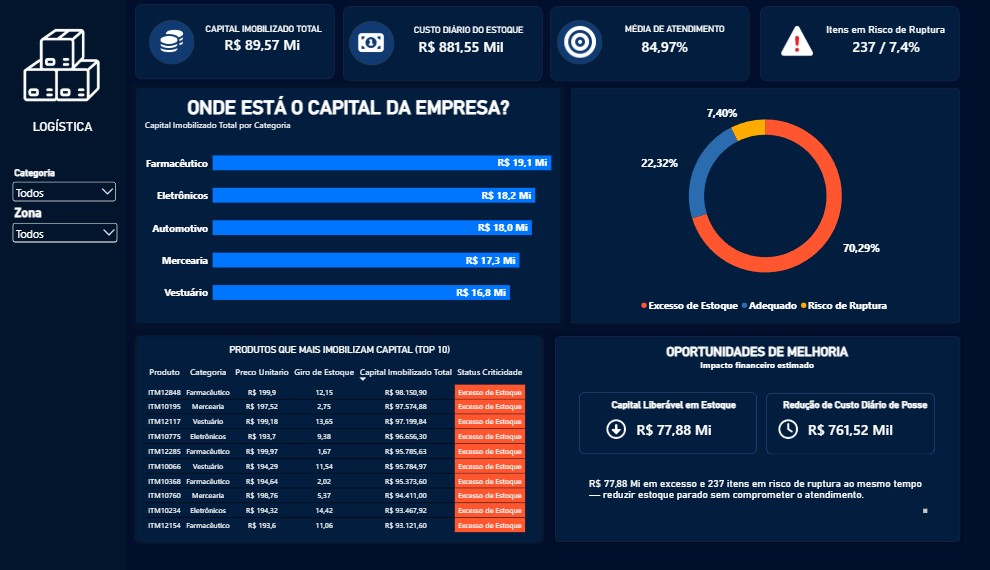

What the dashboard file says about the page in this screenshot:
{"tool":"powerbi","page":{"name":"Página 1","canvas":[1920,1080],"ordinal":0},"visuals":[{"type":"shape","box":[1056.5,40,86,84],"z":0,"group":"g1"},{"type":"shape","box":[1466.5,40,86,84],"z":0},{"type":"shape","box":[1440,12.5,377.5,142.5],"z":1000},{"type":"shape","box":[283.5,39.3,86,84],"z":1000,"group":"g3"},{"type":"shape","box":[662.5,42.5,86,84],"z":1000,"group":"g2"},{"type":"image","box":[1052.5,44,95.4,75.4],"z":1000,"group":"g1"},{"type":"image","box":[1462.5,44,95.4,75.4],"z":2000},{"type":"shape","box":[1042.5,12.5,377.5,142.5],"z":3000},{"type":"shape","box":[650,12.5,377.5,142.5],"z":4000},{"type":"shape","box":[1051,637.5,766.7,389.6],"z":5000},{"type":"shape","box":[257.5,10,377.5,142.5],"z":6000},{"type":"textbox","title":"CUSTO DIÁRIO DO ESTOQUE","box":[776,48.9,225.4,31.9],"z":7000},{"type":"image","box":[668.5,54.5,72.2,59.3],"z":7000,"group":"g2"},{"type":"image","box":[1142.3,790.4,49.4,45.9],"z":7500,"group":"g4"},{"type":"image","box":[1467.3,790.4,49.4,45.9],"z":7500,"group":"g5"},{"type":"textbox","title":"CAPITAL IMOBILIZADO TOTAL","box":[367.8,46.8,267.9,34],"z":8000},{"type":"image","box":[291.5,53.3,71.1,53.3],"z":8000,"group":"g3"},{"type":"cardVisual","title":"rrr","fields":{"Data":["medidas.Capital Imobilizado Total"]},"box":[410,58.3,178.3,51.7],"z":9000},{"type":"cardVisual","title":"rrr","fields":{"Data":["medidas.Custo Diario Estoque"]},"box":[776.7,65,197.5,50],"z":10000},{"type":"donutChart","fields":{"Category":["logistica.Status Criticidade"],"Y":["CountNonNull(logistica.item_id)"]},"box":[1082.5,167.5,735,445],"z":11000},{"type":"clusteredBarChart","title":"ONDE ESTÁ O CAPITAL DA EMPRESA?","fields":{"Category":["logistica.Categoria"],"Y":["medidas.Capital Imobilizado Total"]},"box":[260,167.5,802.5,445],"z":12000},{"type":"tableEx","title":"PRODUTOS QUE MAIS IMOBILIZAM CAPITAL (TOP 10)","fields":{"Values":["logistica.item_id","logistica.Categoria","logistica.Preco Unitario","Sum(logistica.Giro de Estoque)","medidas.Capital Imobilizado Total","logistica.Status Criticidade"]},"box":[260,637.5,767.5,390],"z":13000},{"type":"textbox","title":"OPORTUNIDADES DE MELHORIA","box":[1052.5,652.5,765,55],"z":14000},{"type":"cardVisual","title":"rrr","fields":{"Data":["medidas.Taxa Atendimento Media"]},"box":[1200,70,127.5,37.5],"z":15000},{"type":"textbox","title":"MÉDIA DE ATENDIMENTO ","box":[1160.8,46.8,233.9,23.4],"z":16000},{"type":"group","id":"g1","title":"Grupo 3","box":[1052.5,40,95,82.5],"z":17000},{"type":"group","id":"g2","title":"Grupo 2","box":[662.5,42.5,87.5,82.5],"z":18000},{"type":"group","id":"g3","title":"Grupo 1","box":[283.5,39.3,86,84],"z":19000},{"type":"shape","box":[0,0,240,1080],"z":20000},{"type":"image","box":[11.1,52.8,213.9,144.4],"z":21000},{"type":"textbox","title":" LOGÍSTICA","box":[51,227.5,138.2,31.9],"z":22000},{"type":"slicer","fields":{"Values":["logistica.Categoria"]},"box":[20,317.5,205,72.5],"z":23000},{"type":"slicer","fields":{"Values":["logistica.Zona"]},"box":[20,390,207.7,72.1],"z":24000},{"type":"shape","box":[1096.2,744.2,336.5,117.3],"z":25000},{"type":"cardVisual","title":"rrr","fields":{"Data":["medidas.Impacto Capital Excesso"]},"box":[1186.5,788.5,182.5,50],"z":26000},{"type":"textbox","title":"Capital Liberável em Estoque","box":[1157.1,757.1,237.5,20],"z":27000},{"type":"shape","box":[1450,744.6,319.6,116.1],"z":28000},{"type":"textbox","title":"Redução de Custo Diário de Posse","box":[1469.4,757.1,300,27.5],"z":29000},{"type":"cardVisual","title":"rrr","fields":{"Data":["medidas.Reducao Custo Diario"]},"box":[1509.6,790.4,202.5,45],"z":30000},{"type":"cardVisual","title":"rrr","fields":{"Data":["medidas.Label Risco de Ruptura"]},"box":[1598.3,66.7,162.5,45],"z":31000},{"type":"textbox","title":"Itens em Risco de Ruptura","box":[1552,44.6,248.7,25.5],"z":32000},{"type":"textbox","title":"R$ 77,88 Mi em excesso e 237 itens em risco de ruptura ao mesmo tempo — reduzir estoque parado sem comprometer o atendimento.","box":[1116.1,903.5,639.9,68],"z":33000},{"type":"group","id":"g4","title":"Grupo 2","box":[1142.3,790.4,50,46.2],"z":34000},{"type":"group","id":"g5","title":"Grupo 2","box":[1467.3,790.4,50,46.2],"z":34001}]}

Visuals, with their boxes in screenshot pixels (x1, y1, x2, y2), scaled from the page's 1920x1080 canvas onto the 990x570 screenshot:
shape: x1=545 y1=21 x2=589 y2=65
shape: x1=756 y1=21 x2=801 y2=65
shape: x1=742 y1=7 x2=937 y2=82
shape: x1=146 y1=21 x2=191 y2=65
shape: x1=342 y1=22 x2=386 y2=67
image: x1=543 y1=23 x2=592 y2=63
image: x1=754 y1=23 x2=803 y2=63
shape: x1=538 y1=7 x2=732 y2=82
shape: x1=335 y1=7 x2=530 y2=82
shape: x1=542 y1=336 x2=937 y2=542
shape: x1=133 y1=5 x2=327 y2=80
"CUSTO DIÁRIO DO ESTOQUE" textbox: x1=400 y1=26 x2=516 y2=43
image: x1=345 y1=29 x2=382 y2=60
image: x1=589 y1=417 x2=614 y2=441
image: x1=757 y1=417 x2=782 y2=441
"CAPITAL IMOBILIZADO TOTAL" textbox: x1=190 y1=25 x2=328 y2=43
image: x1=150 y1=28 x2=187 y2=56
"rrr" cardVisual: x1=211 y1=31 x2=303 y2=58
"rrr" cardVisual: x1=400 y1=34 x2=502 y2=61
donutChart - logistica.Status Criticidade x CountNonNull(logistica.item_id): x1=558 y1=88 x2=937 y2=323
"ONDE ESTÁ O CAPITAL DA EMPRESA?" clusteredBarChart: x1=134 y1=88 x2=548 y2=323
"PRODUTOS QUE MAIS IMOBILIZAM CAPITAL (TOP 10)" tableEx: x1=134 y1=336 x2=530 y2=542
"OPORTUNIDADES DE MELHORIA" textbox: x1=543 y1=344 x2=937 y2=373
"rrr" cardVisual: x1=619 y1=37 x2=684 y2=57
"MÉDIA DE ATENDIMENTO " textbox: x1=599 y1=25 x2=719 y2=37
"Grupo 3" group: x1=543 y1=21 x2=592 y2=65
"Grupo 2" group: x1=342 y1=22 x2=387 y2=66
"Grupo 1" group: x1=146 y1=21 x2=191 y2=65
shape: x1=0 y1=0 x2=124 y2=569
image: x1=6 y1=28 x2=116 y2=104
" LOGÍSTICA" textbox: x1=26 y1=120 x2=98 y2=137
slicer - logistica.Categoria: x1=10 y1=168 x2=116 y2=206
slicer - logistica.Zona: x1=10 y1=206 x2=117 y2=244
shape: x1=565 y1=393 x2=739 y2=455
"rrr" cardVisual: x1=612 y1=416 x2=706 y2=443
"Capital Liberável em Estoque" textbox: x1=597 y1=400 x2=719 y2=410
shape: x1=748 y1=393 x2=912 y2=454
"Redução de Custo Diário de Posse" textbox: x1=758 y1=400 x2=912 y2=414
"rrr" cardVisual: x1=778 y1=417 x2=883 y2=441
"rrr" cardVisual: x1=824 y1=35 x2=908 y2=59
"Itens em Risco de Ruptura" textbox: x1=800 y1=24 x2=928 y2=37
"R$ 77,88 Mi em excesso e 237 itens em risco de ruptura ao mesmo tempo — reduzir estoque parado sem comprometer o atendimento." textbox: x1=575 y1=477 x2=905 y2=513
"Grupo 2" group: x1=589 y1=417 x2=615 y2=442
"Grupo 2" group: x1=757 y1=417 x2=782 y2=442
